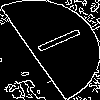I: (25, 25, 83, 60)
